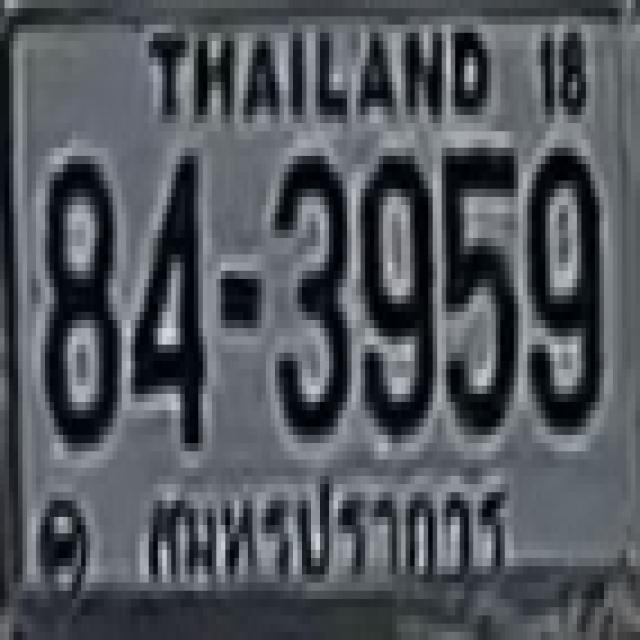3: (270, 148, 342, 435)
4: (133, 148, 201, 443)
5: (442, 140, 514, 426)
8: (41, 148, 112, 443)
9: (358, 148, 431, 435), (525, 140, 597, 426)
SPK: (136, 473, 522, 602)
